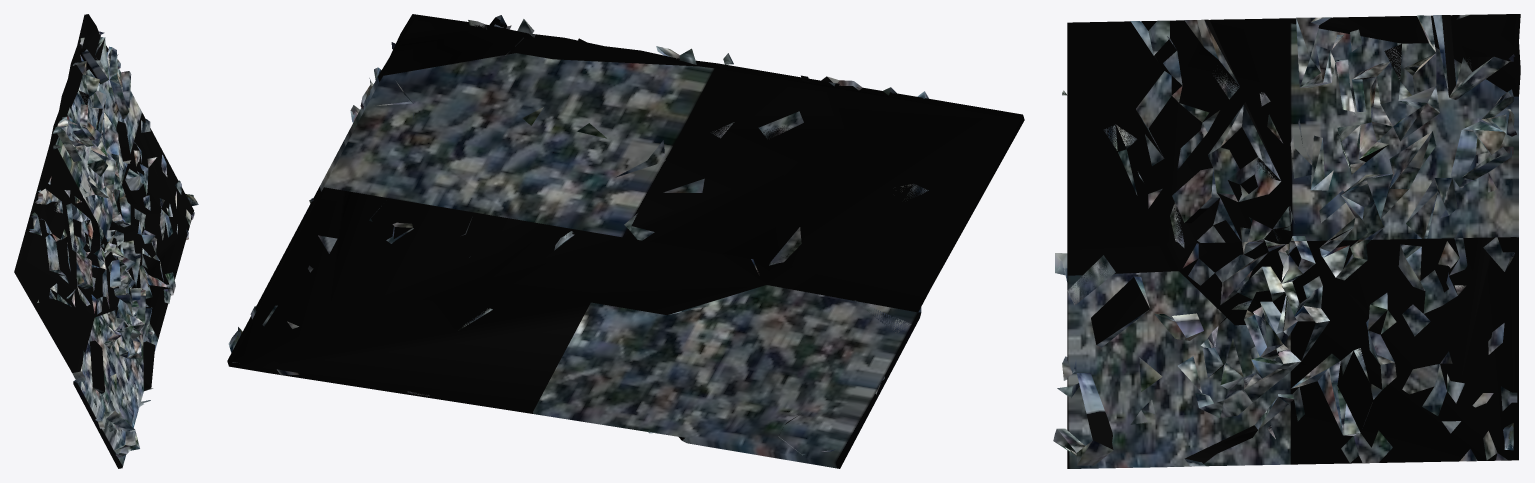
3 renders of one model, left to right at view 1: azimuth 30°, elevation 25°; view 2: azimuth 150°, elevation 25°; view 3: azimuth 270°, elevation 25°, orthographic. The views are drawn at different scales.
Parts seen in each view (by area): view 1: node_304362727043616_mesh0; view 2: node_304362727043616_mesh0; view 3: node_304362727043616_mesh0.
Boxes of the visible parts, x1=… form: node_304362727043616_mesh0: x1=14, y1=14, x2=198, y2=468; node_304362727043616_mesh0: x1=227, y1=14, x2=1024, y2=468; node_304362727043616_mesh0: x1=1053, y1=14, x2=1520, y2=468.
Size of the model in its own units: 1170 by 1164 by 914.
Materials: 1 (1 with a texture image).
